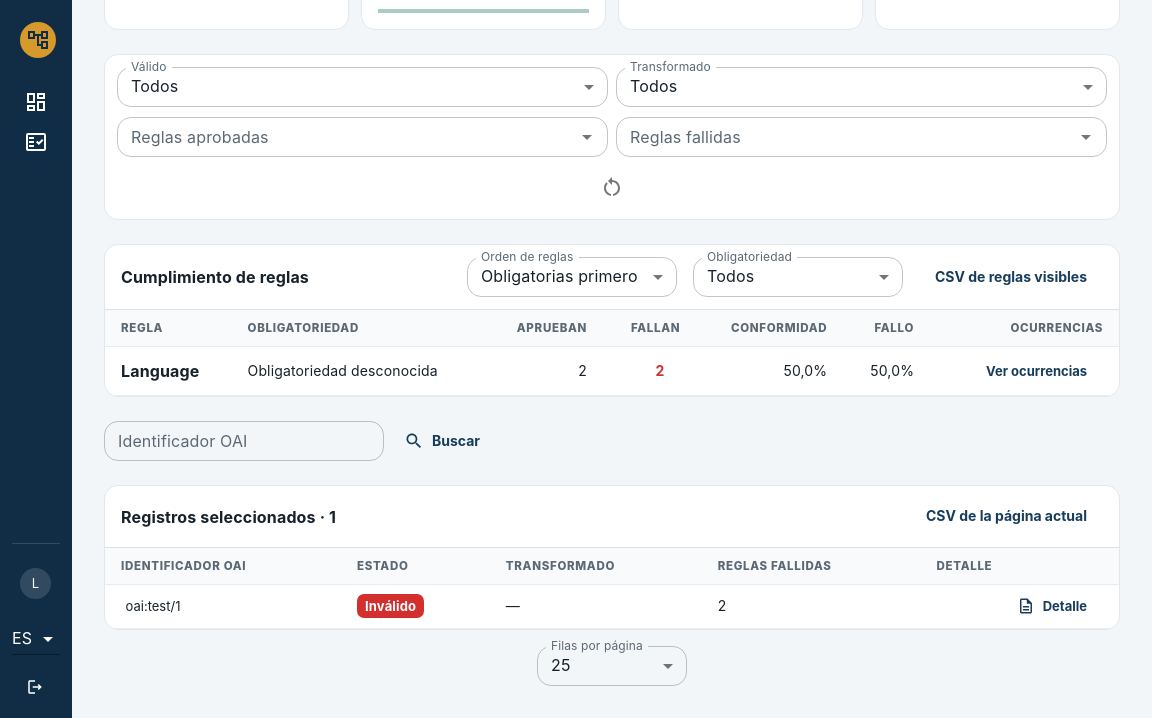
Test case: loads XML on demand and distinguishes missing historical data from a read failure
(page scrolled)
Step 1. Click the button "oai:test/1" → [153, 606], box [121,595,185,618]
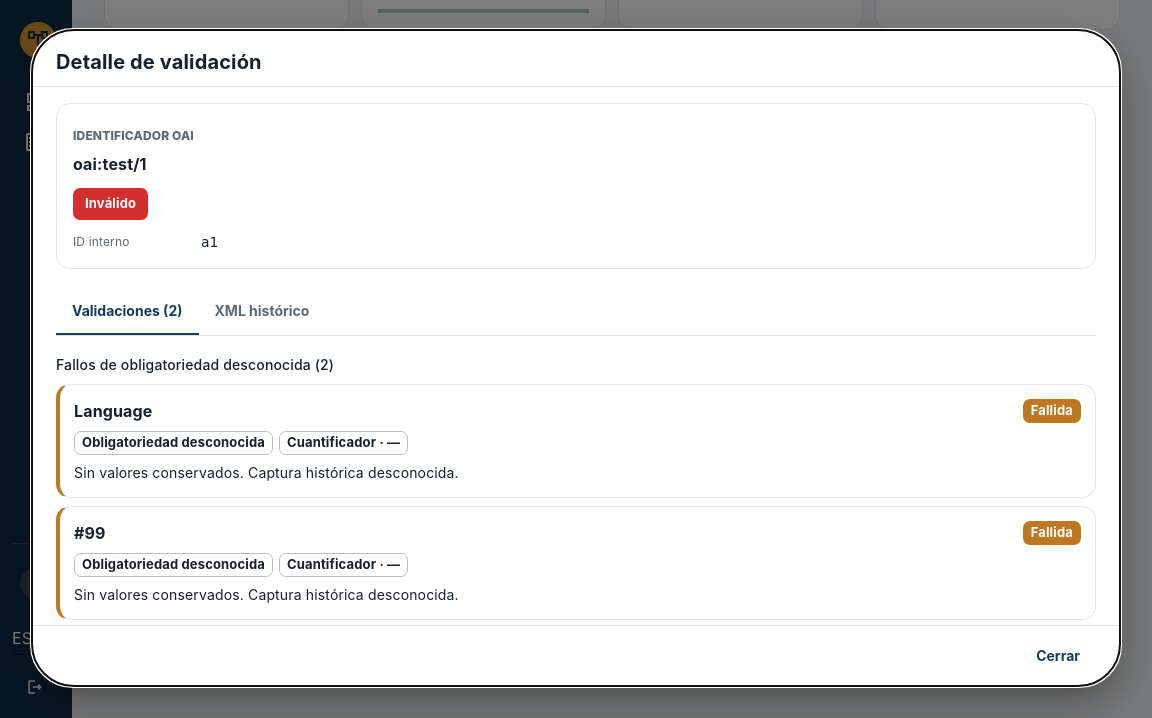
Step 2. Click the tab "XML histórico" → [262, 311], box [198,287,325,335]
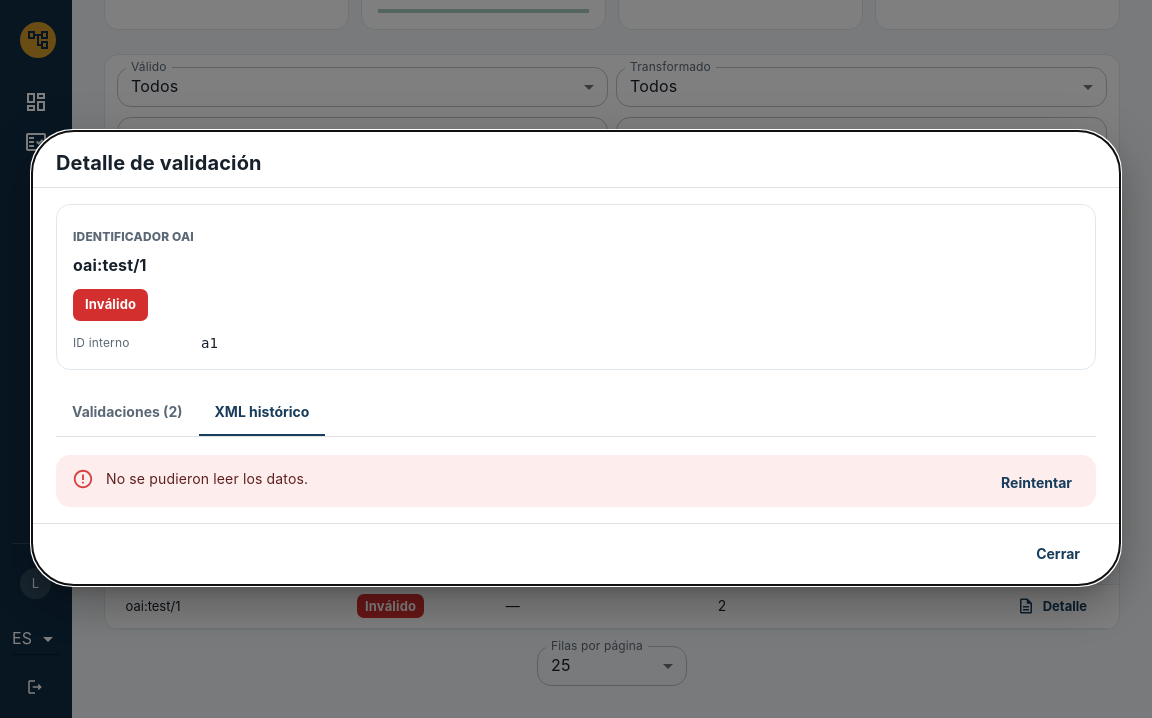
Step 3. Click the button "Reintentar" → [1036, 483], box [985,465,1088,502]
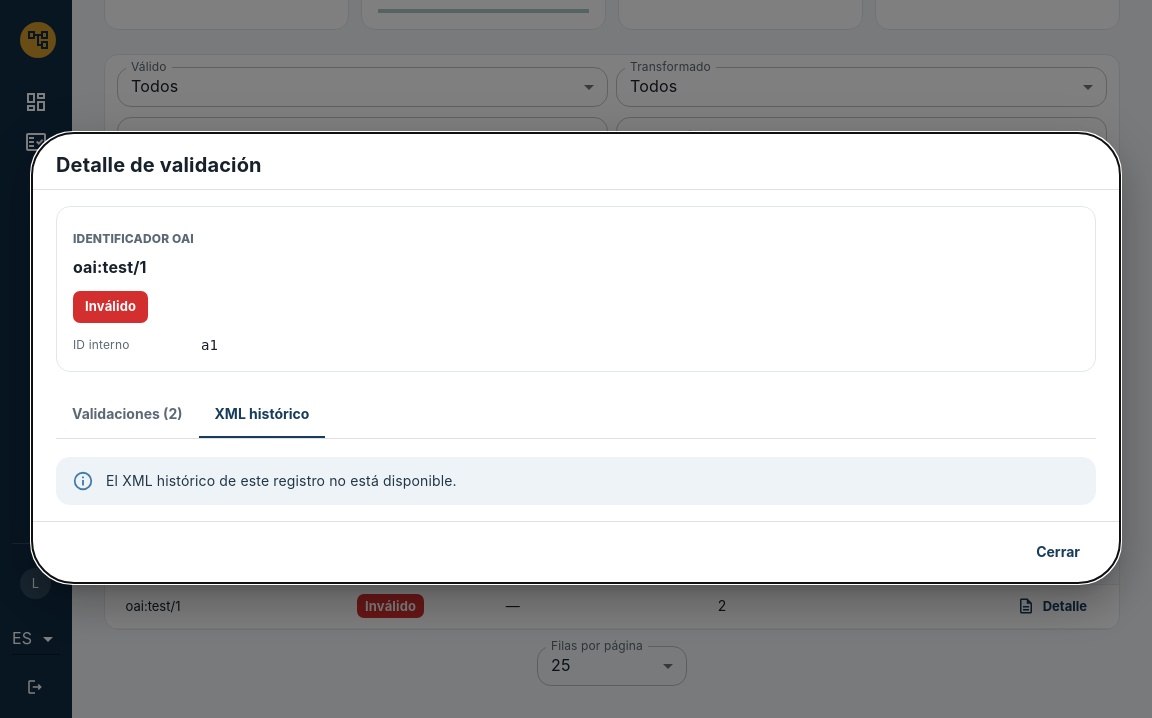
Check: the text "El XML histórico de este registro no está disponible." is shown, box [106,472,457,489]
